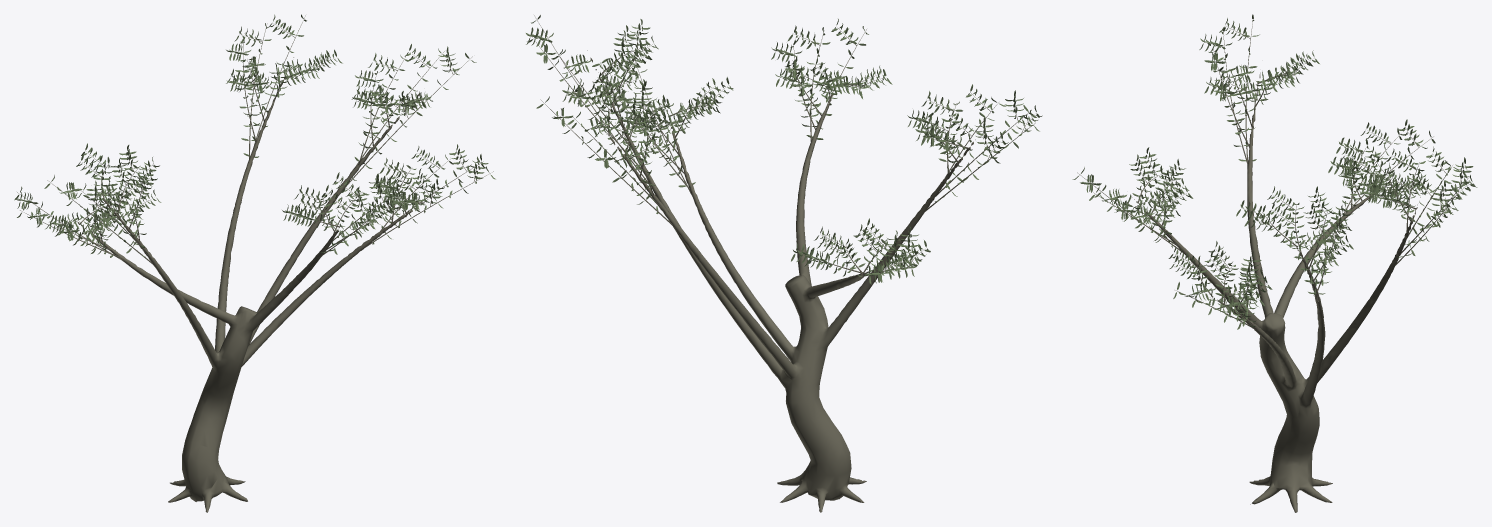
File: Oleastre_2_Niveau0.fbx
The picture shows the model from 3 angles, left to right: view 1: azimuth 30°, elevation 25°; view 2: azimuth 150°, elevation 25°; view 3: azimuth 270°, elevation 25°; orthographic projection. The views are drawn at different scales.
Parts seen in each view (by area): view 1: Oleastre_2_Niveau0_Jeu; view 2: Oleastre_2_Niveau0_Jeu; view 3: Oleastre_2_Niveau0_Jeu.
Boxes of the visible parts, bbox=[...] form: Oleastre_2_Niveau0_Jeu: bbox=[14, 14, 495, 512]; Oleastre_2_Niveau0_Jeu: bbox=[526, 15, 1042, 512]; Oleastre_2_Niveau0_Jeu: bbox=[1072, 14, 1477, 512].
Size of the model in its own units: 391 by 317 by 291.
